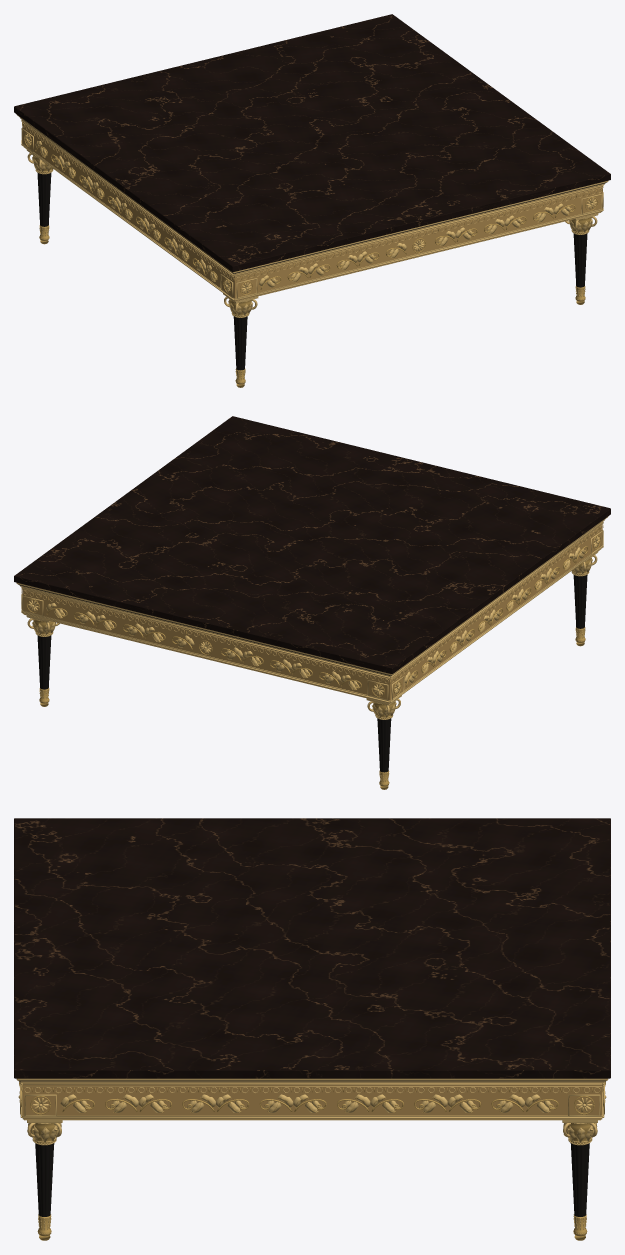
3 renders of one model, top to bottom at view 1: azimuth 30°, elevation 25°; view 2: azimuth 150°, elevation 25°; view 3: azimuth 270°, elevation 25°, orthographic. The views are drawn at different scales.
Parts seen in each view (by area): view 1: Trianon square Emperor coffee table | salon-4 web batch; view 2: Trianon square Emperor coffee table | salon-4 web batch; view 3: Trianon square Emperor coffee table | salon-4 web batch.
Boxes of the visible parts, <box> form: Trianon square Emperor coffee table | salon-4 web batch: <box>14,14,610,387</box>; Trianon square Emperor coffee table | salon-4 web batch: <box>14,416,610,789</box>; Trianon square Emperor coffee table | salon-4 web batch: <box>14,818,610,1240</box>.
Bounding box in the file's own units: 1.4 × 0.47 × 1.4.
Materials: 6 (1 with a texture image).
